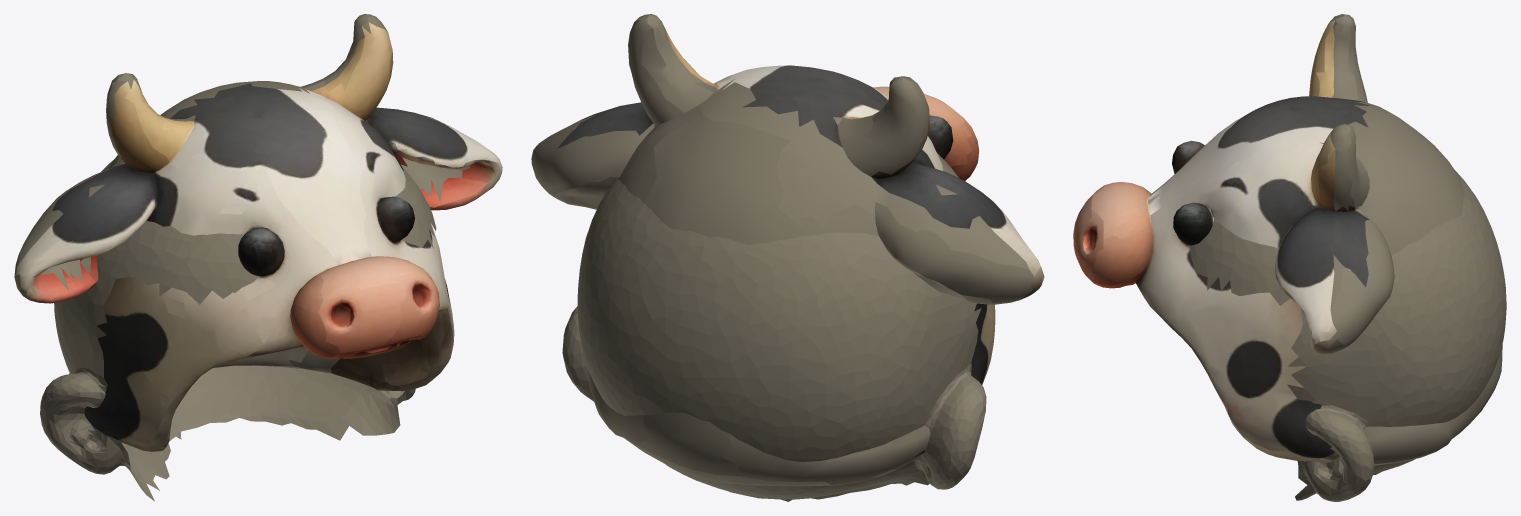
Rendered from cow.glb.
3 views of the same model, side by side, from view 1: azimuth 30°, elevation 25°; view 2: azimuth 150°, elevation 25°; view 3: azimuth 270°, elevation 25° (orthographic). The views are drawn at different scales.
Visible parts, largest first — view 1: geometry_0, HoodAnatomicalLining; view 2: geometry_0, HoodAnatomicalLining; view 3: geometry_0, HoodAnatomicalLining.
Boxes of the visible parts, x1,y1,x2,y2 form: geometry_0: (14,14,502,451); HoodAnatomicalLining: (40,159,436,501); geometry_0: (531,14,1044,486); HoodAnatomicalLining: (562,152,986,501); geometry_0: (1073,14,1502,465); HoodAnatomicalLining: (1189,170,1506,501).
Size of the model in its own units: 0.634 by 0.5132 by 0.526.
Materials: 2 (1 with a texture image).
